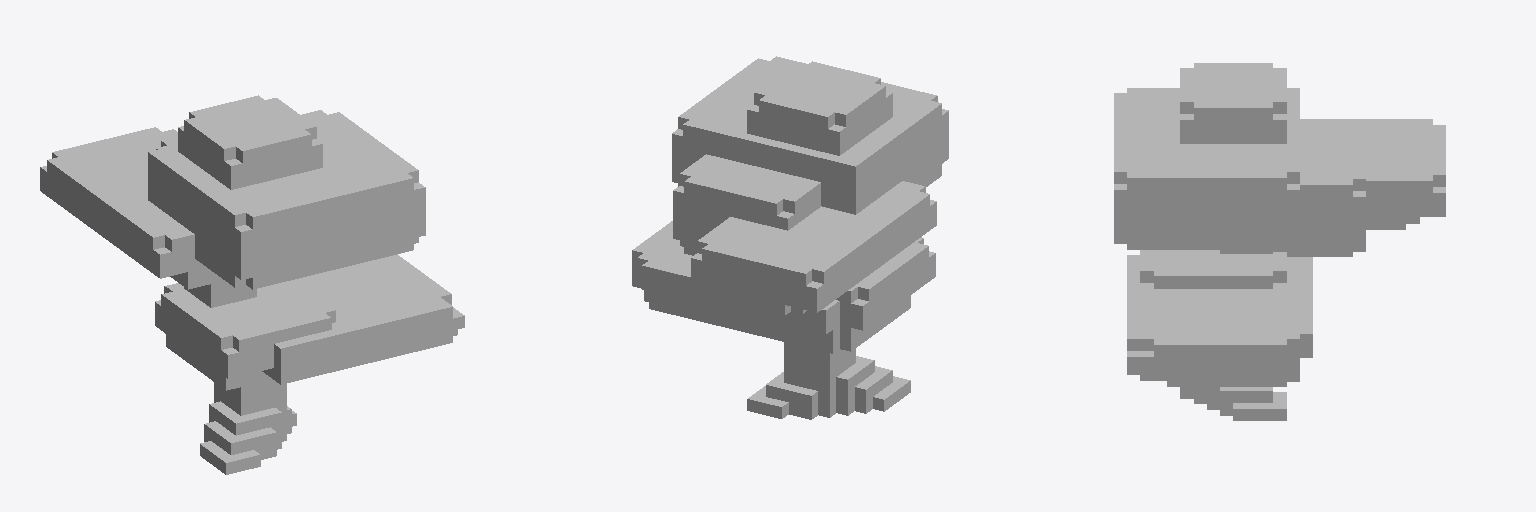
File: 2022 Torii (Wheezy Woods)-19.obj
The picture shows the model from 3 angles: view 1: azimuth 30°, elevation 25°; view 2: azimuth 150°, elevation 25°; view 3: azimuth 270°, elevation 25°; orthographic projection.
Visible parts, largest first — view 1: object 1; view 2: object 1; view 3: object 1.
Boxes of the visible parts, x1=… form: object 1: x1=40, y1=95, x2=464, y2=474; object 1: x1=632, y1=56, x2=948, y2=419; object 1: x1=1114, y1=63, x2=1445, y2=420.
Size of the model in its own units: 2.3 by 2.6 by 2.5.